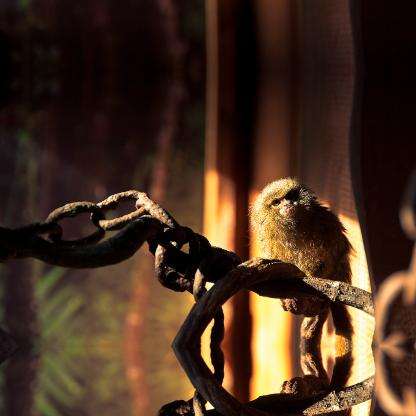Monkey: (247, 175, 355, 345), (247, 346, 356, 415)
